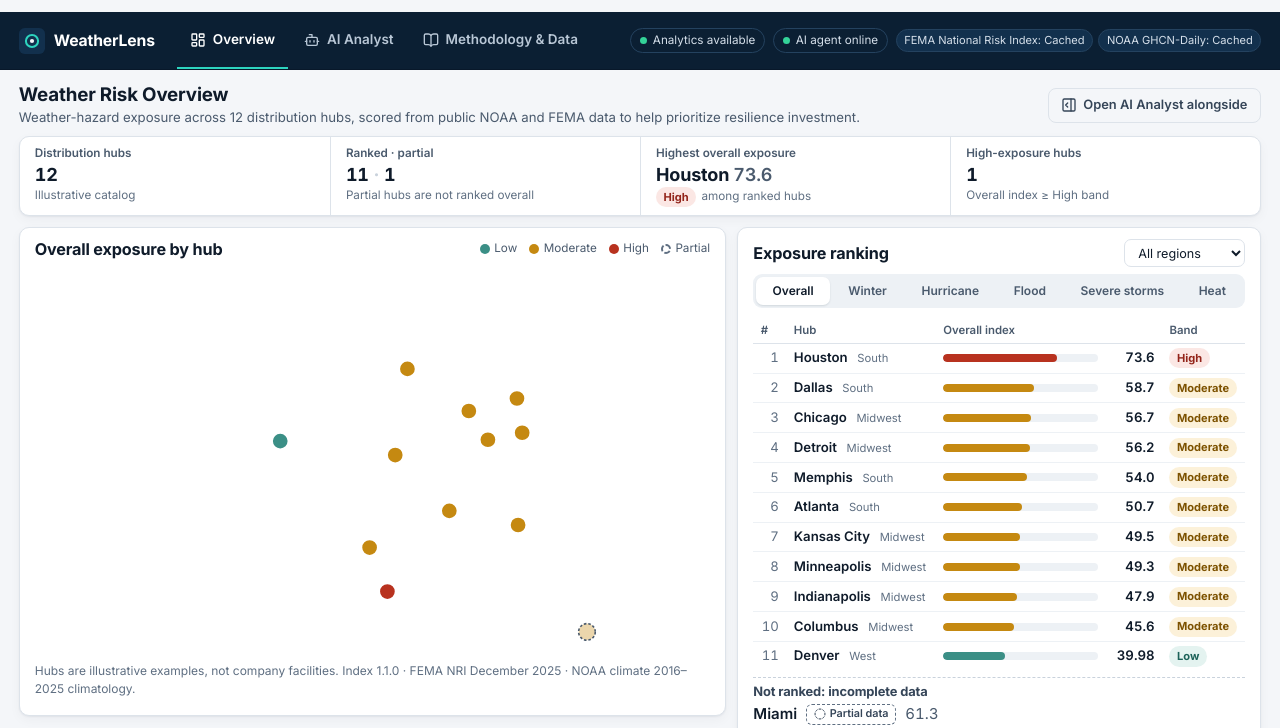
it: Overview dashboard › shows Miami as partial and not ranked overall, but ranked for hurricane
Expected: the button "Miami" is shown, [753,703,797,725]
Expected: the text "Partial data" is shown, [806,704,896,725]
What coordinates should you click on to do the following:
click the tab "Hurricane"
I would click on:
 (950, 291)
Its box is [905,277,995,305].
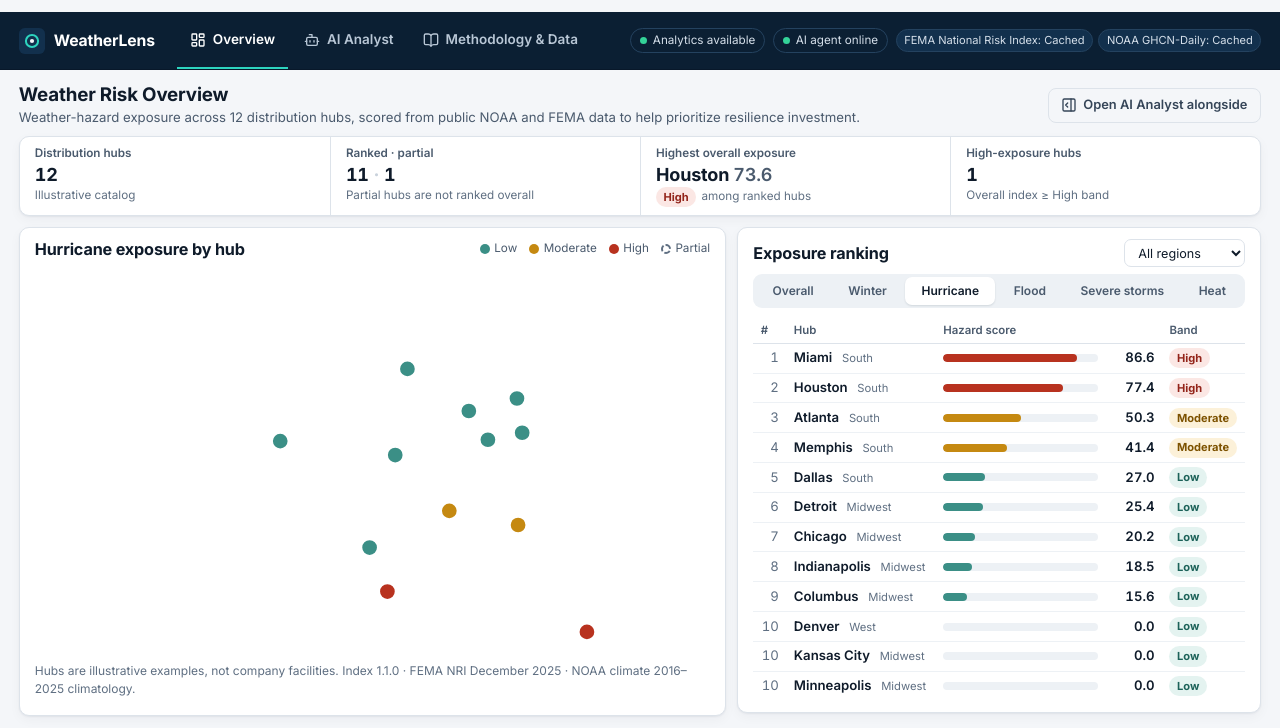
Expected: the row "1 Miami South 86.6 High" is shown, [753,343,1245,373]
